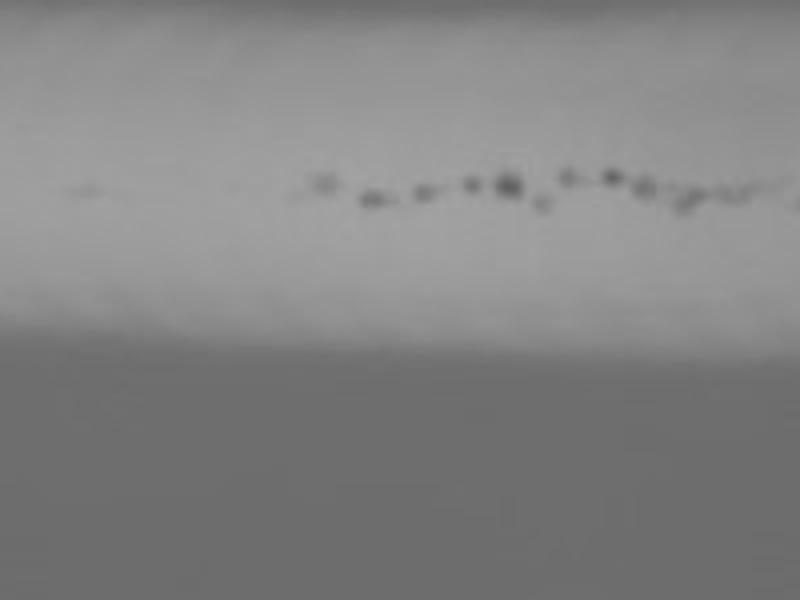defect: (716, 182, 757, 209), (494, 169, 525, 201), (308, 170, 339, 196), (360, 186, 394, 206), (632, 175, 657, 202), (409, 182, 436, 204), (69, 181, 102, 199), (458, 173, 484, 195), (602, 165, 626, 187), (556, 167, 579, 189), (531, 192, 555, 213), (672, 196, 692, 220), (685, 185, 706, 204)
